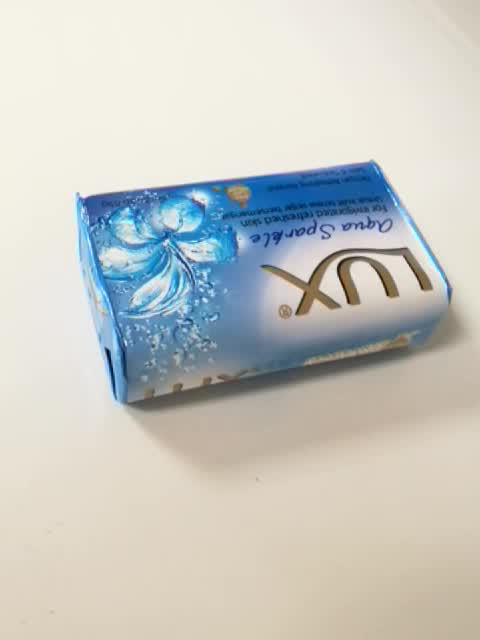soap: (73, 157, 454, 405)
